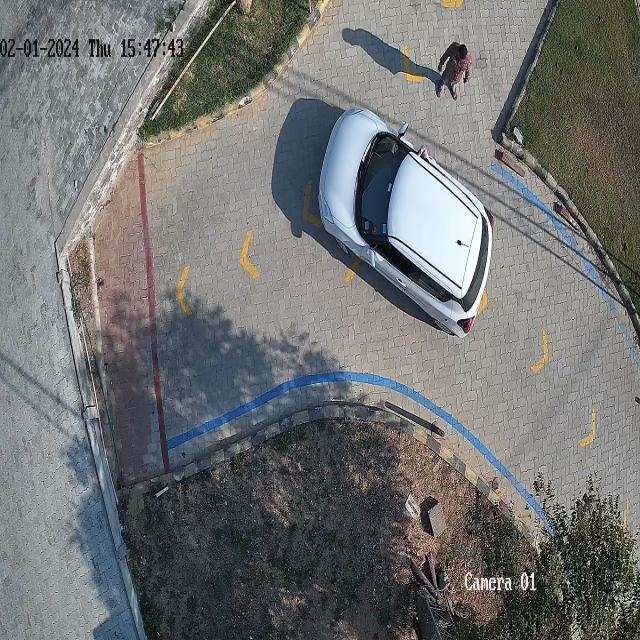car: (319, 107, 494, 336)
